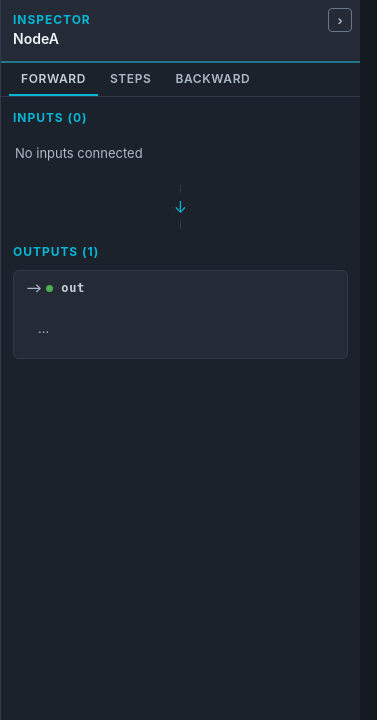
Test: InspectorPanel — single node mode › switches to the Steps tab and renders StepTraceView
The width and height of the screenshot is (377, 720).
Click the tab "Steps": coordinates (131, 79) [98, 63, 164, 96]
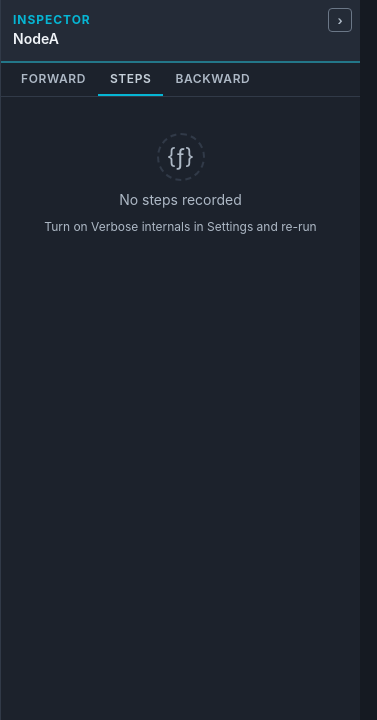
Result: the text "No steps recorded" is shown at [119, 189, 242, 210]
